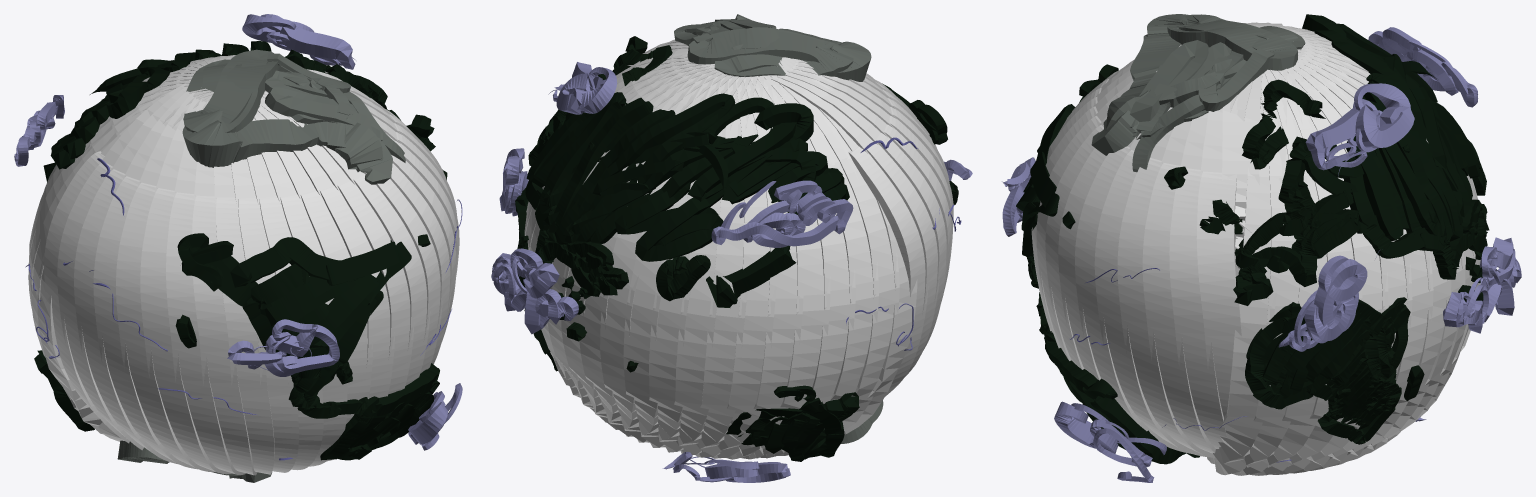
The model's file is Earth_.fbx.
The picture shows the model from 3 angles, left to right: view 1: azimuth 30°, elevation 25°; view 2: azimuth 150°, elevation 25°; view 3: azimuth 270°, elevation 25°; orthographic projection. The views are drawn at different scales.
Parts seen in each view (by area): view 1: Paint, NewLayer0; view 2: Paint, NewLayer0; view 3: NewLayer0, Paint.
Part boxes in pixels (left/top/right/bottom): Paint: left=28, top=55, right=459, bottom=475; NewLayer0: left=14, top=14, right=462, bottom=482; Paint: left=524, top=39, right=953, bottom=459; NewLayer0: left=491, top=14, right=972, bottom=482; NewLayer0: left=1002, top=14, right=1521, bottom=482; Paint: left=1031, top=22, right=1480, bottom=475.
Size of the model in its own units: 6.82 by 6.61 by 7.34.
